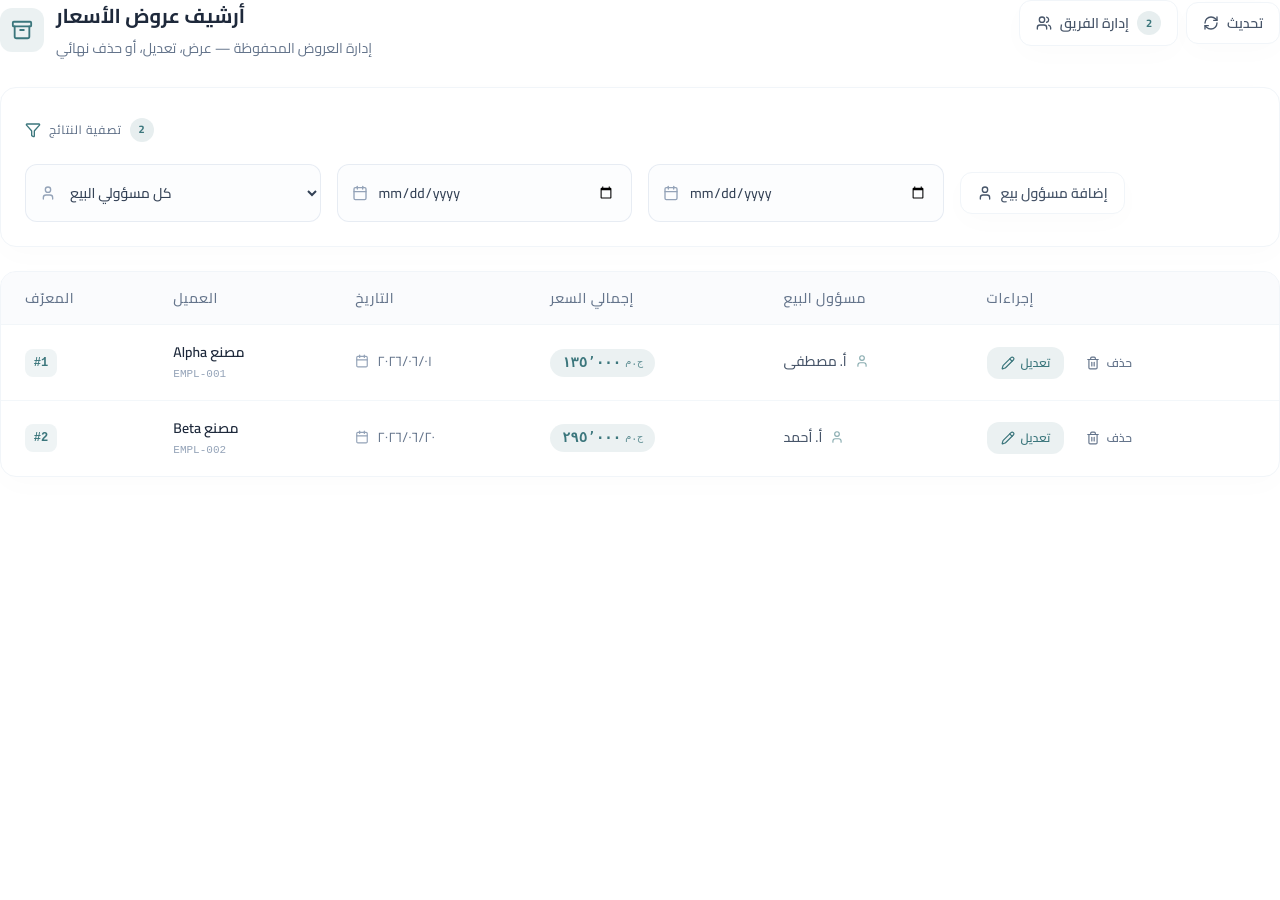
ArchivedQuotesList filtering › removes deleted offer from the table without a full page reload
Check: the text "مصنع Alpha" is shown, box x1=173 y1=339 x2=245 y2=365
Click the button "حذف" in the row of "مصنع Alpha".
click(1109, 363)  # box x1=1072 y1=347 x2=1146 y2=379
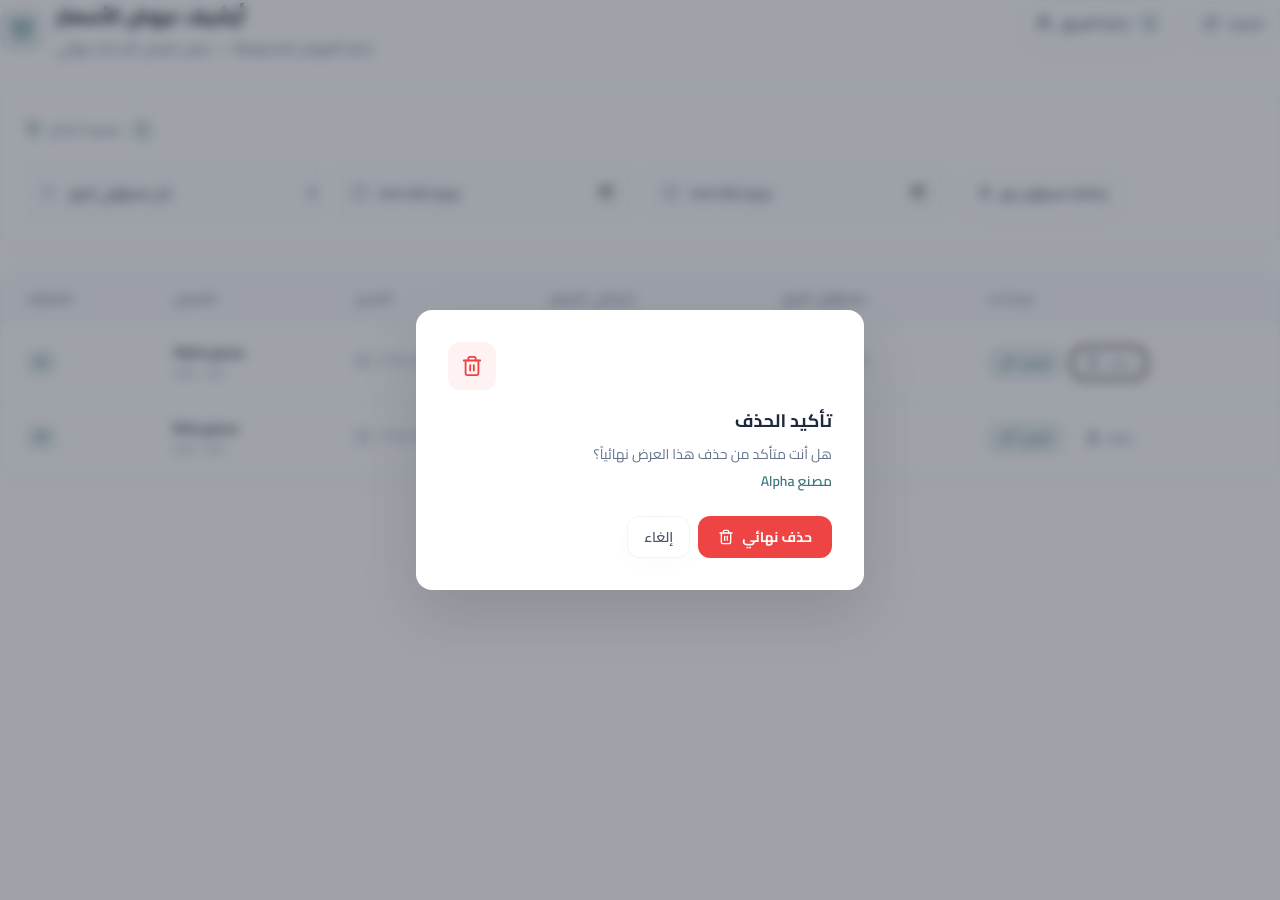
Click the button "حذف نهائي".
click(765, 537)  # box x1=698 y1=516 x2=832 y2=558
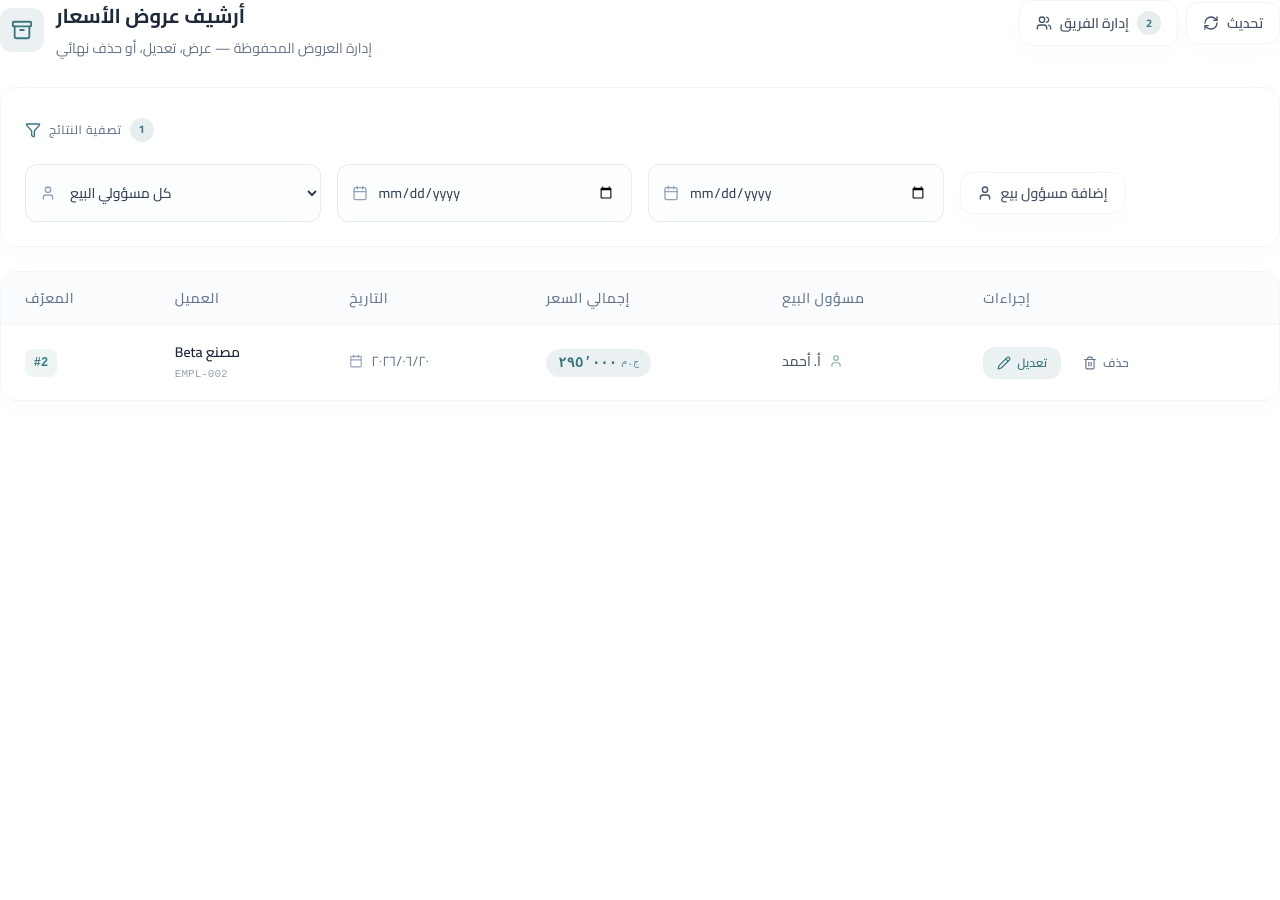
Check: the text "مصنع Beta" is shown, box x1=175 y1=339 x2=240 y2=365
Check: the text "مصنع Alpha" is gone
